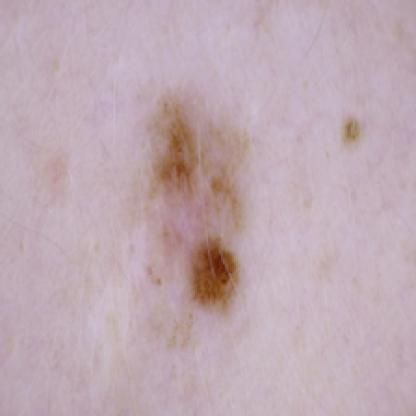benign: (139, 76, 258, 318)
